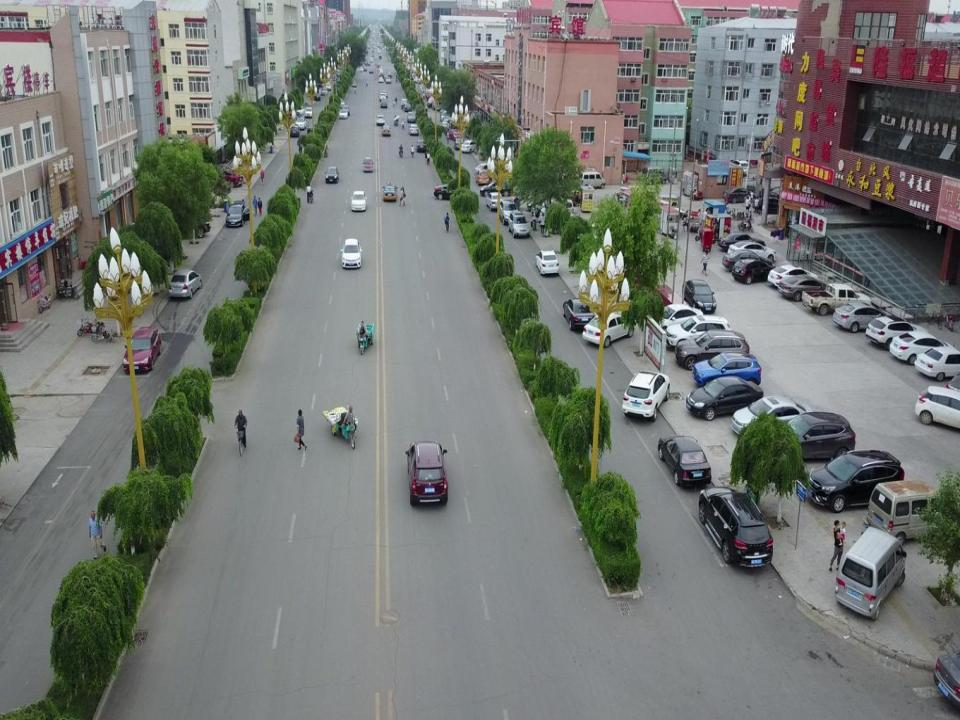car: (803, 449, 907, 513), (700, 486, 774, 568), (767, 413, 856, 458), (686, 376, 764, 422), (731, 394, 813, 434), (405, 442, 448, 506), (658, 436, 711, 486), (693, 352, 762, 389), (676, 330, 750, 364), (622, 370, 670, 422), (664, 316, 732, 348), (890, 330, 956, 362), (867, 314, 927, 347), (915, 385, 960, 429), (122, 326, 162, 374), (582, 311, 635, 347), (933, 649, 960, 709), (832, 302, 887, 330), (915, 348, 960, 380), (650, 304, 703, 330), (779, 274, 828, 301), (682, 279, 717, 314), (722, 249, 777, 271), (732, 259, 776, 284), (769, 265, 818, 287), (562, 298, 595, 330), (728, 241, 776, 262), (168, 270, 202, 298), (718, 231, 766, 250), (170, 218, 210, 238), (225, 200, 251, 228), (340, 238, 363, 269), (535, 249, 559, 277), (214, 168, 244, 188), (480, 180, 514, 197), (509, 211, 530, 238), (722, 186, 750, 204), (498, 199, 518, 224), (433, 184, 461, 200), (485, 192, 503, 211), (382, 182, 399, 202), (350, 191, 366, 212), (324, 166, 339, 184), (946, 374, 960, 392), (461, 138, 476, 154), (476, 170, 489, 186), (474, 163, 490, 175), (768, 186, 781, 200), (362, 157, 374, 172), (440, 118, 454, 130), (289, 126, 301, 138), (295, 117, 306, 130), (448, 128, 461, 139), (408, 124, 419, 136), (415, 140, 426, 152), (381, 124, 391, 136), (453, 138, 463, 150), (406, 111, 416, 122), (376, 115, 386, 126), (304, 107, 314, 118), (338, 109, 347, 120), (296, 104, 304, 116), (307, 123, 316, 133), (379, 92, 387, 102), (425, 93, 434, 101), (428, 96, 437, 104), (342, 105, 350, 114), (426, 100, 436, 107), (380, 100, 388, 108), (404, 103, 412, 111), (381, 90, 388, 98), (314, 93, 321, 101), (314, 83, 324, 88), (321, 88, 328, 95), (400, 99, 408, 105), (378, 76, 384, 83), (332, 73, 338, 80), (325, 83, 331, 90), (352, 79, 357, 87), (378, 65, 384, 71), (368, 68, 374, 73), (378, 70, 384, 75), (402, 101, 406, 108), (384, 75, 388, 81), (335, 70, 341, 74), (363, 66, 368, 70), (359, 67, 363, 72), (378, 54, 382, 58), (388, 72, 392, 76), (377, 49, 380, 54), (371, 54, 374, 57)
truck: (802, 284, 872, 314), (432, 101, 440, 110), (386, 76, 392, 84)
van: (835, 526, 908, 621), (865, 480, 943, 544), (540, 198, 575, 219), (578, 170, 606, 190), (642, 166, 667, 184), (440, 110, 450, 122), (334, 97, 344, 107), (369, 57, 373, 62)
